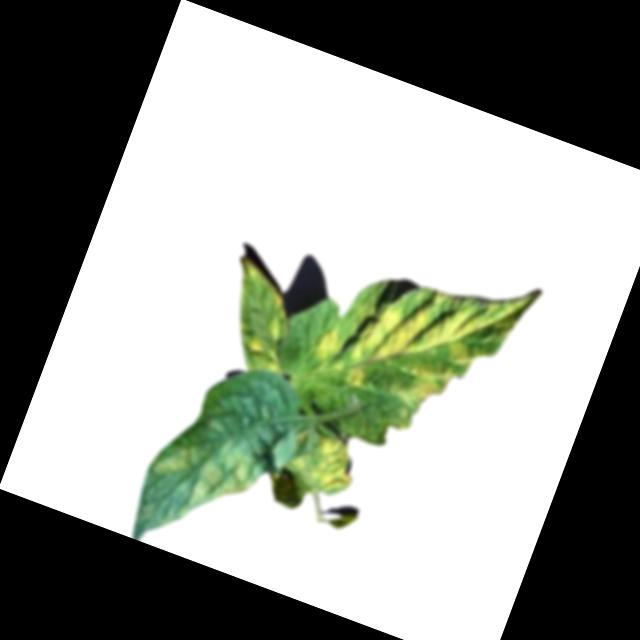Leaf_Mold: (308, 226, 538, 437), (141, 417, 264, 524), (280, 424, 362, 505), (242, 333, 291, 376)
